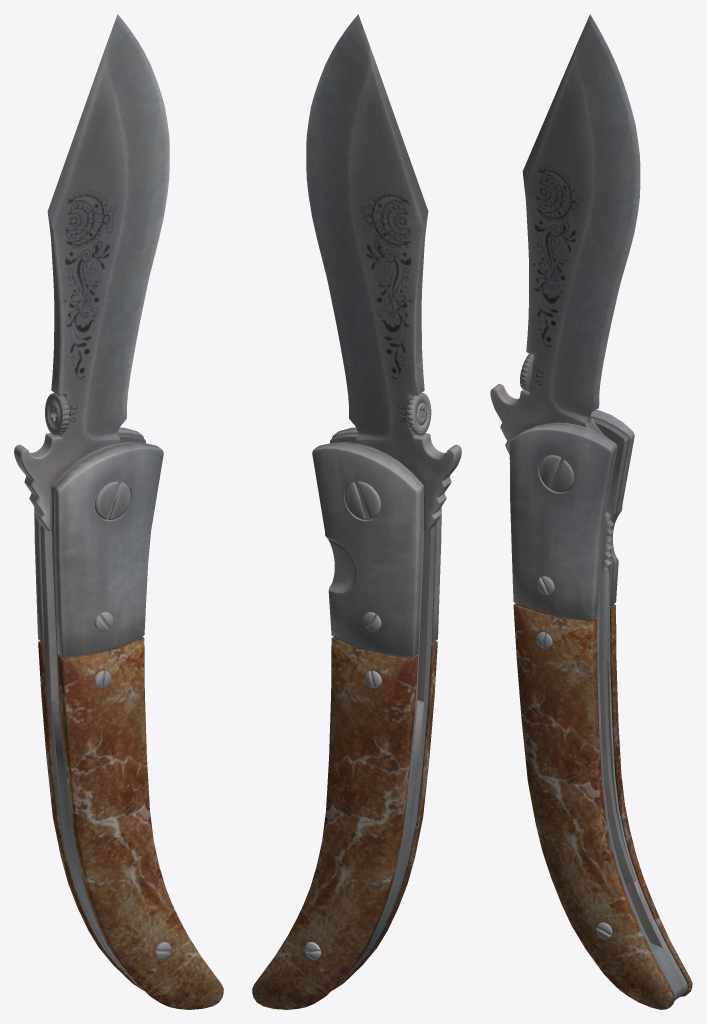
The model's file is weapon_knife_gypsy_jackknife.glb.
3 views of the same model, side by side, from view 1: azimuth 30°, elevation 25°; view 2: azimuth 150°, elevation 25°; view 3: azimuth 330°, elevation 25° (orthographic). The views are drawn at different scales.
Parts seen in each view (by area): view 1: weapons/models/knife/knife_navaja/weapon_knife_navaja.vmdl_c; view 2: weapons/models/knife/knife_navaja/weapon_knife_navaja.vmdl_c; view 3: weapons/models/knife/knife_navaja/weapon_knife_navaja.vmdl_c.
Boxes of the visible parts, x1,y1,x2,y2 form: weapons/models/knife/knife_navaja/weapon_knife_navaja.vmdl_c: (14,14,223,1009); weapons/models/knife/knife_navaja/weapon_knife_navaja.vmdl_c: (252,14,461,1009); weapons/models/knife/knife_navaja/weapon_knife_navaja.vmdl_c: (490,14,692,1009).
Size of the model in its own units: 2.46 by 12.06 by 0.7602.
1 material, 1 textured.
